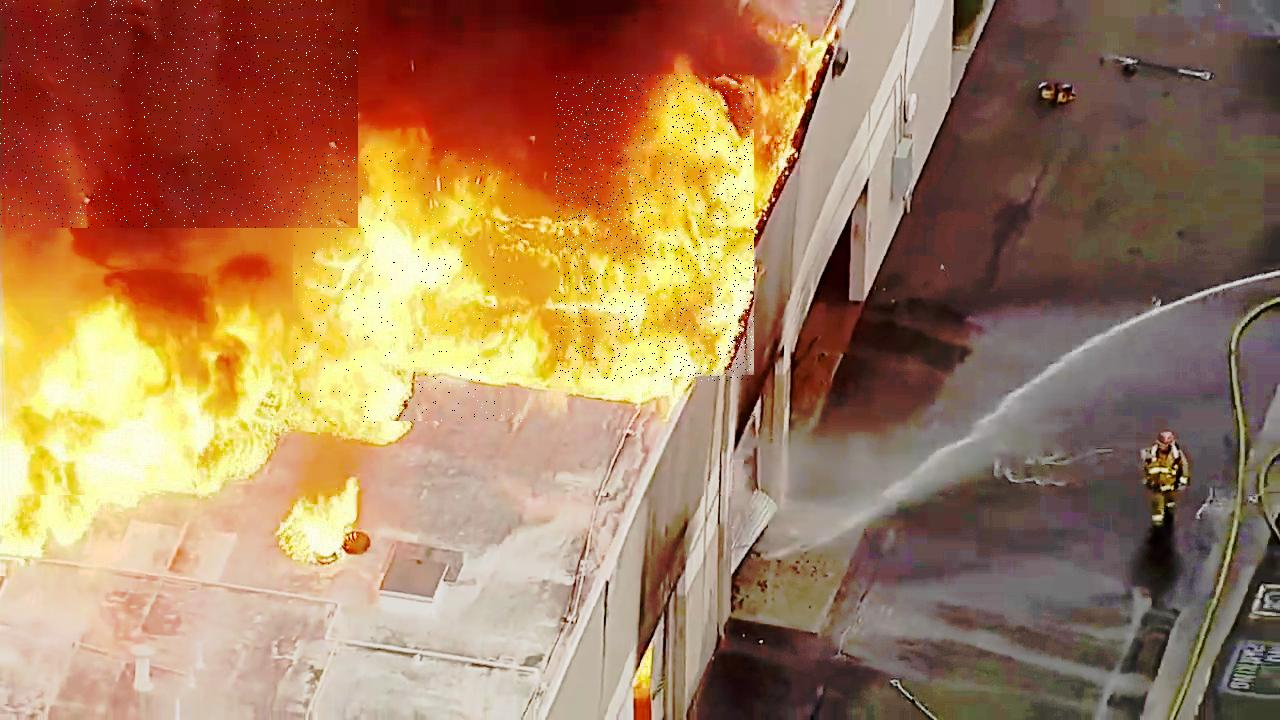fire: (294, 149, 522, 424), (555, 75, 754, 382), (0, 274, 197, 498)
smoke: (0, 0, 358, 228)
